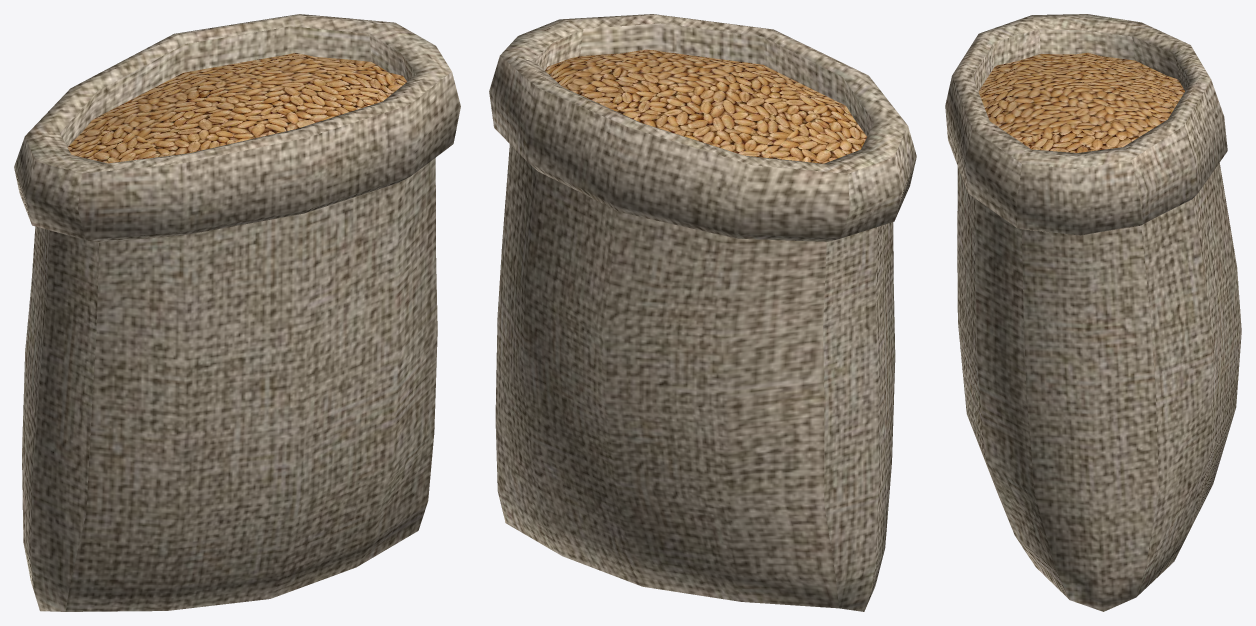
The model's file is wheat_sack.glb.
3 views of the same model, side by side, from view 1: azimuth 30°, elevation 25°; view 2: azimuth 150°, elevation 25°; view 3: azimuth 270°, elevation 25° (orthographic). The views are drawn at different scales.
Visible parts, largest first — view 1: Object_8, Object_9; view 2: Object_8, Object_9; view 3: Object_8, Object_9.
Part boxes in pixels (bbox=[...]): Object_8: bbox=[14, 14, 460, 611]; Object_9: bbox=[67, 53, 406, 163]; Object_8: bbox=[489, 14, 916, 611]; Object_9: bbox=[545, 49, 866, 163]; Object_8: bbox=[945, 14, 1241, 611]; Object_9: bbox=[978, 52, 1184, 152].
Size of the model in its own units: 1.26 by 1.47 by 0.8521.
Materials: 2 (2 with a texture image).
